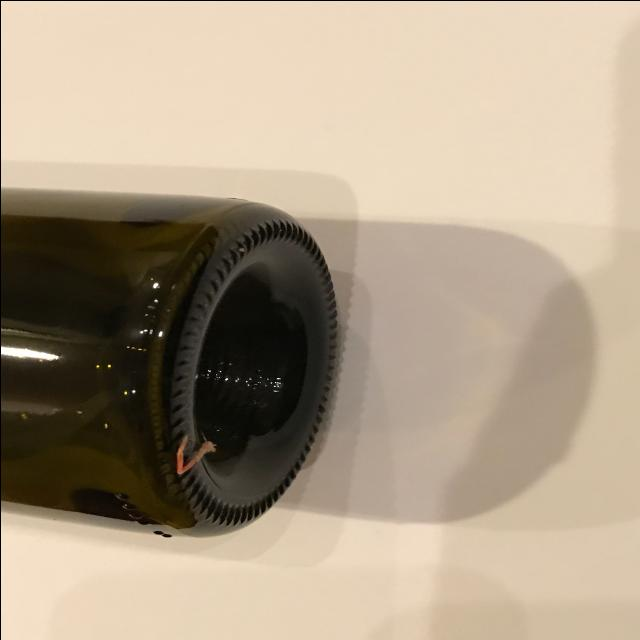glass: (0, 193, 350, 540)
